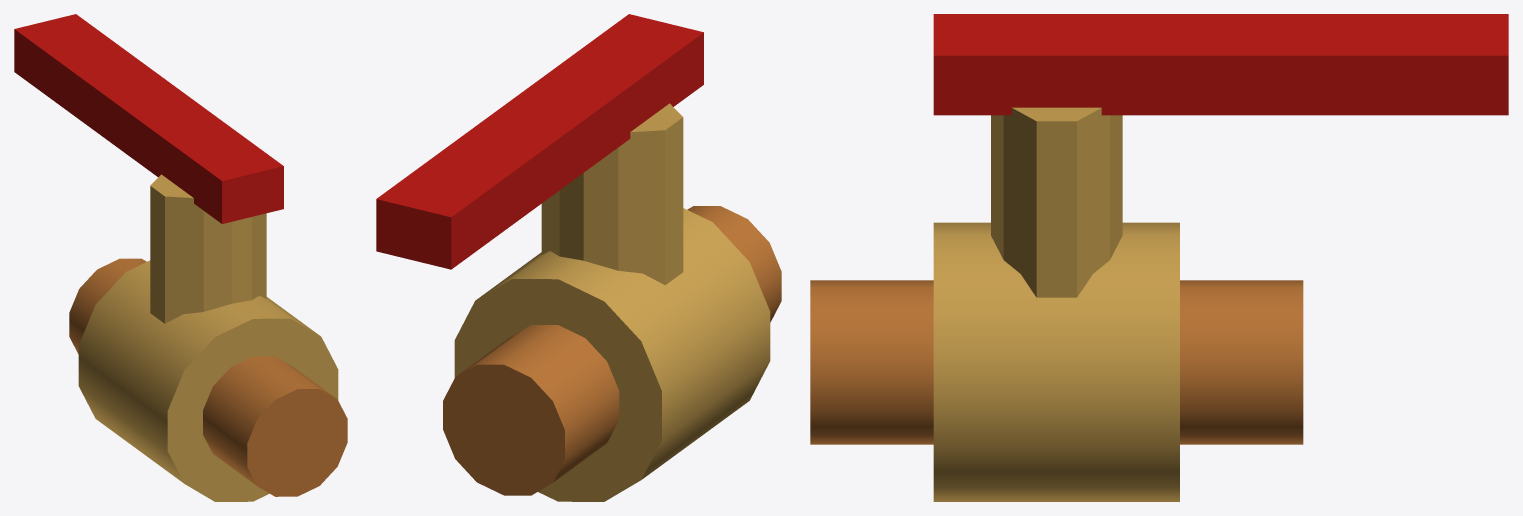
Rendered from services.pipe.valve_35.glb.
The picture shows the model from 3 angles, left to right: view 1: azimuth 30°, elevation 25°; view 2: azimuth 150°, elevation 25°; view 3: azimuth 270°, elevation 25°; orthographic projection. The views are drawn at different scales.
Parts seen in each view (by area): view 1: main__brass, main__plastic_red, main__copper; view 2: main__brass, main__plastic_red, main__copper; view 3: main__brass, main__plastic_red, main__copper.
Part boxes in pixels (x1,y1,x2,y2): main__brass: [78, 174, 338, 501]; main__plastic_red: [14, 14, 283, 223]; main__copper: [69, 258, 347, 496]; main__brass: [454, 103, 770, 501]; main__plastic_red: [376, 14, 703, 269]; main__copper: [443, 206, 781, 495]; main__brass: [933, 107, 1179, 501]; main__plastic_red: [933, 14, 1508, 115]; main__copper: [810, 280, 1303, 444].
Size of the model in its own units: 0.058 by 0.1068 by 0.1487.
